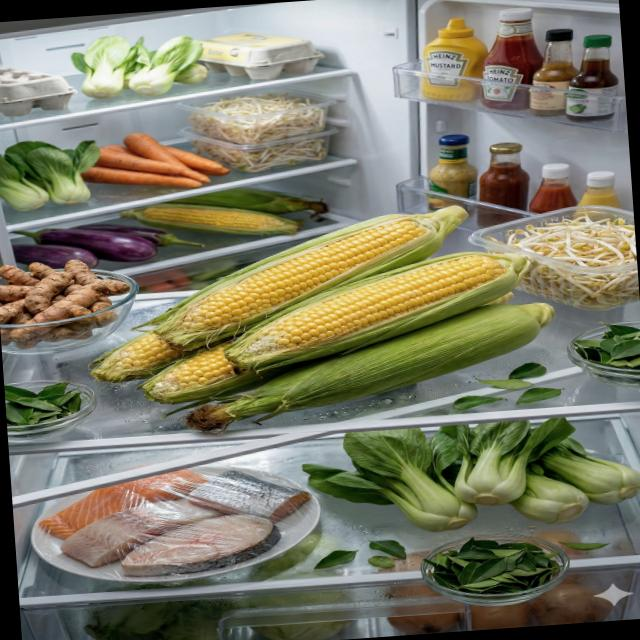bean_sprouts: (486, 202, 640, 316), (188, 88, 329, 176)
carrot: (77, 126, 231, 195)
corn: (76, 198, 564, 442), (117, 181, 330, 247)
curry_leaves: (421, 530, 566, 605), (4, 379, 86, 438), (571, 318, 640, 375)
egg: (196, 27, 327, 84), (0, 57, 79, 117)
eggplant: (9, 215, 208, 274)
fish: (35, 460, 316, 584)
pakchoy: (299, 411, 640, 542), (68, 29, 208, 101), (0, 135, 104, 213)
turmeric: (0, 254, 135, 350)
